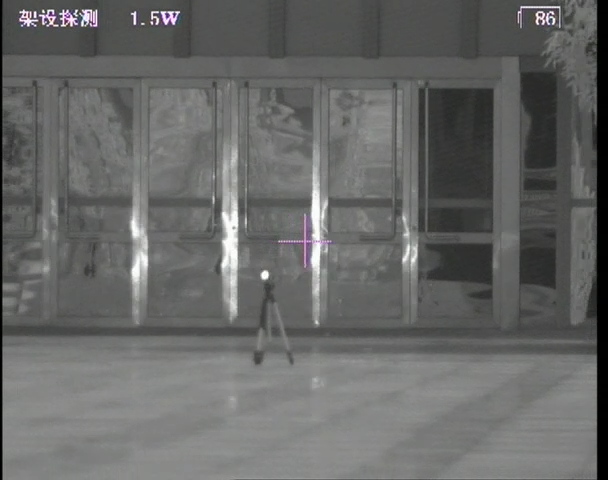my: (257, 267, 271, 282)
